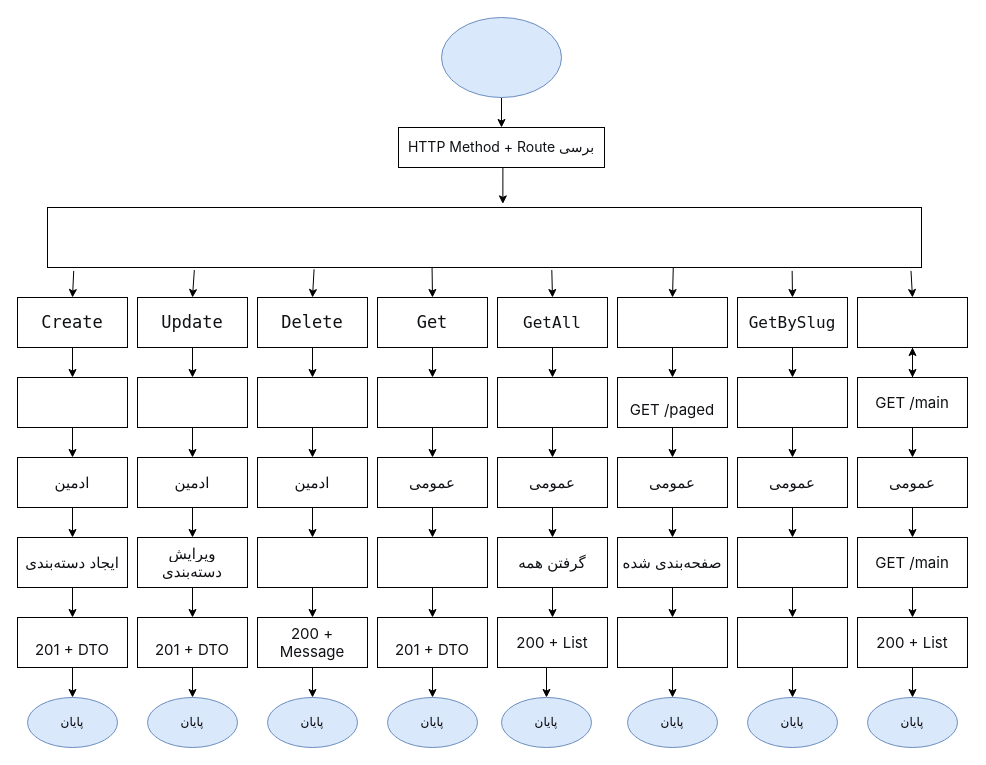
Image size: 986x765. Some labels were removed from this diagram. The shapes that lost their labels are listed below. From the top down, each one's box as (x1, y1, x2, y2) in pixels, then its label:
(440, 16, 562, 98): شروع CategoryController
(46, 206, 922, 268): HTTP Method + Routeبرسی
(616, 296, 728, 348): GetPaged
(856, 296, 968, 348): GetMainCategories
(16, 376, 128, 428): POST /
(136, 376, 248, 428): PUT /
(256, 376, 368, 428): DELETE /{id}
(376, 376, 488, 428): GET /{id}
(496, 376, 608, 428): GET /
(736, 376, 848, 428): GET /slug/{slug}
(256, 536, 368, 588): حذف دسته‌بندی
(376, 536, 488, 588): گرفتن با Id
(736, 536, 848, 588): گرفتن با Slug
(616, 616, 728, 668): 200 + Page
(736, 616, 848, 668): 200 + DTO
